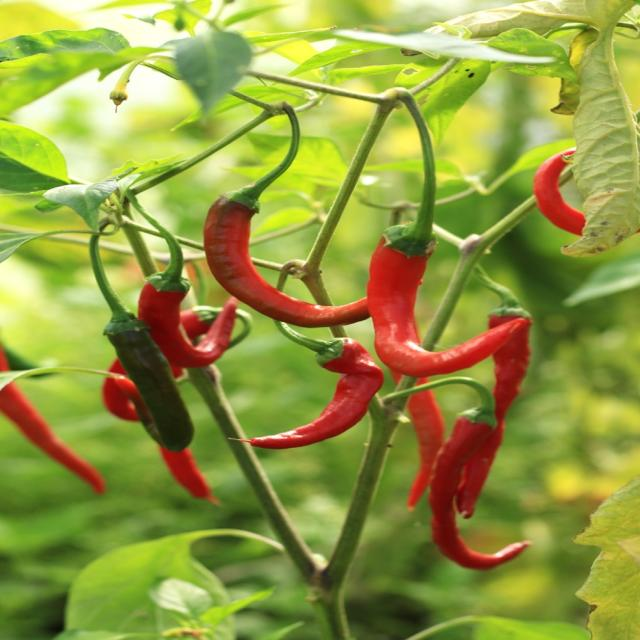Ripe: (367, 239, 527, 378), (204, 195, 369, 327), (457, 268, 530, 518), (246, 320, 384, 449), (429, 416, 530, 569), (0, 382, 105, 493), (139, 282, 238, 368), (407, 390, 444, 509), (534, 148, 585, 234), (160, 446, 217, 502)
Unripe: (107, 329, 193, 451)
